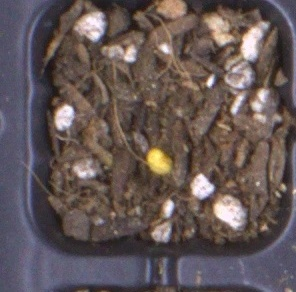chilli seed: (146, 146, 174, 175)
